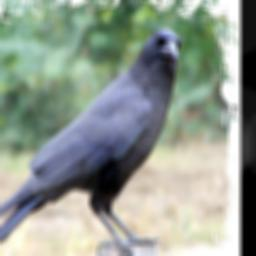Crow: (0, 27, 186, 256)
